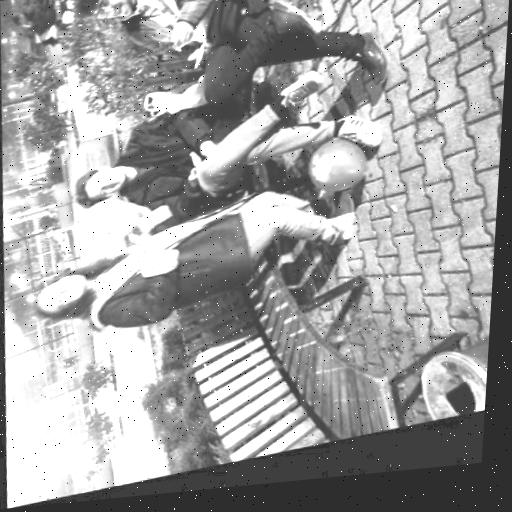balloon: (301, 141, 369, 206), (73, 194, 140, 254)
